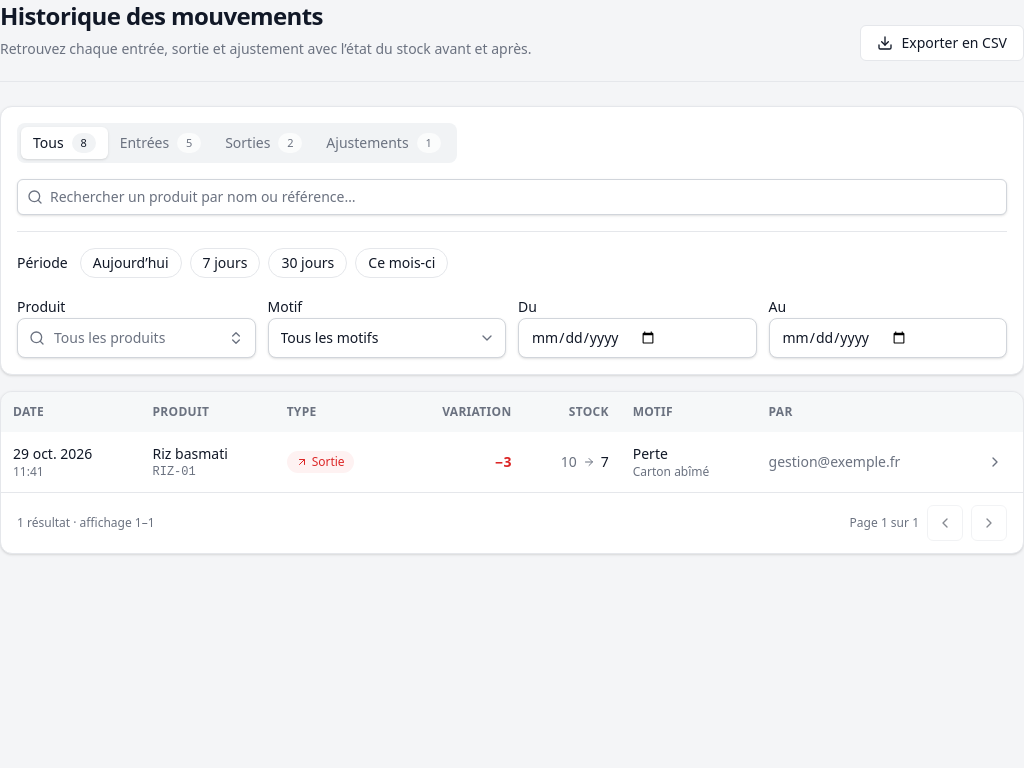
Test: HistoryPage › ouvre le détail d’un mouvement
The width and height of the screenshot is (1024, 768).
Click the button named "Voir le détail du mouvement de Riz basmati" at [995, 462], box [979, 446, 1011, 478]
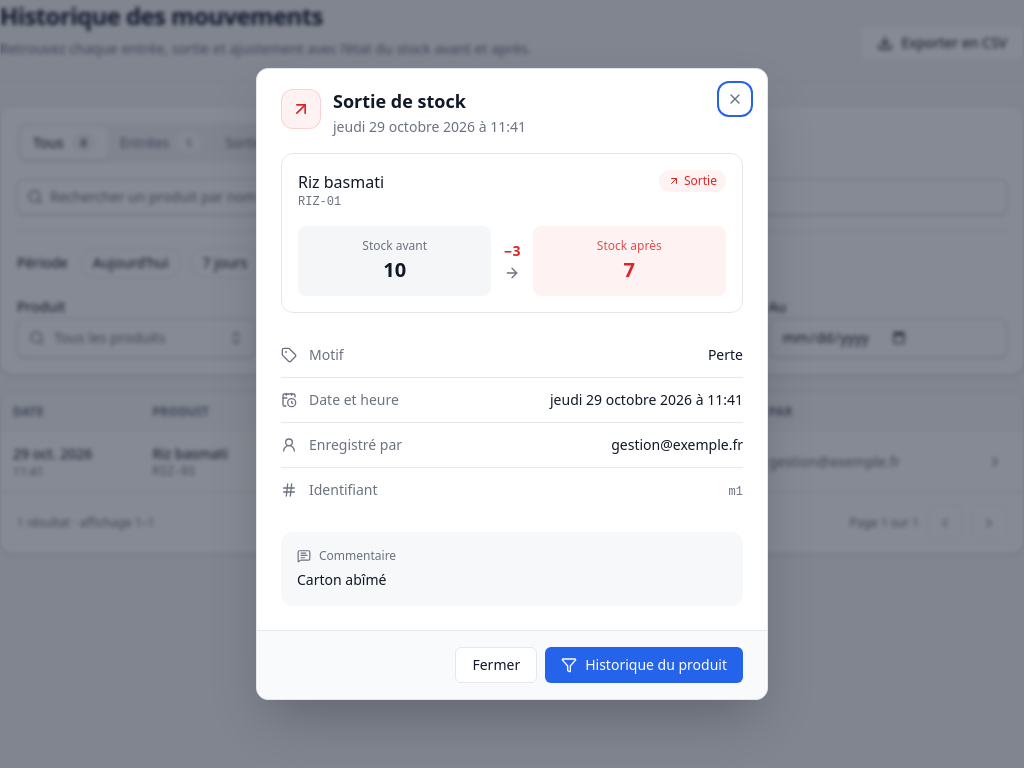
Expected: the text "Carton abîmé" is shown, [297, 570, 386, 589]
Expected: the text "gestion@exemple.fr" is shown, [611, 435, 743, 455]
Expected: the text "−3" is shown, [504, 241, 521, 261]
